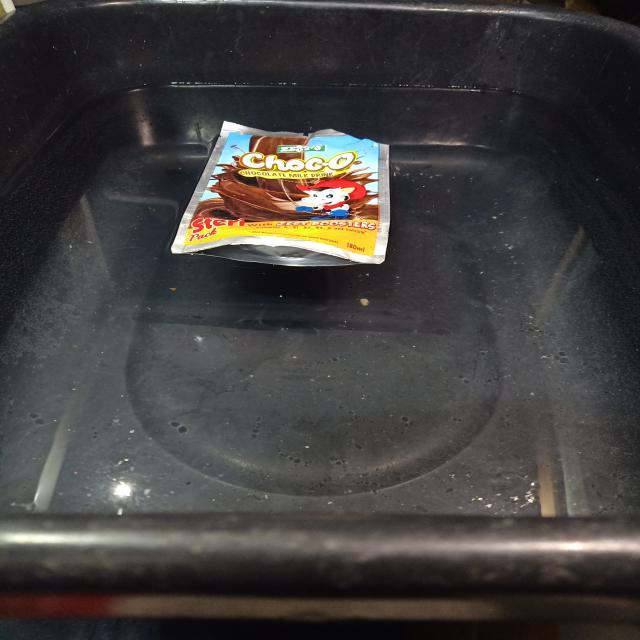Plastic Pouch: (170, 121, 389, 266)
